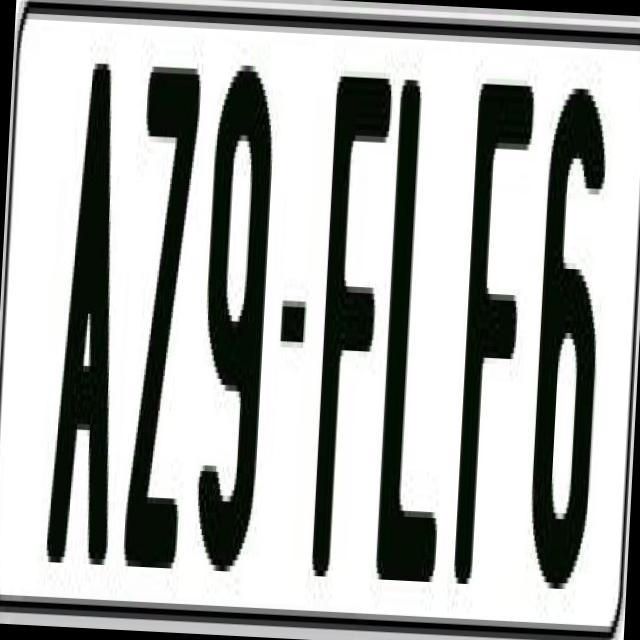6: (524, 81, 612, 614)
9: (188, 52, 276, 590)
A: (45, 62, 133, 582)
F: (306, 70, 391, 602), (451, 66, 536, 592)
L: (376, 68, 470, 583)
Z: (120, 55, 207, 563)
